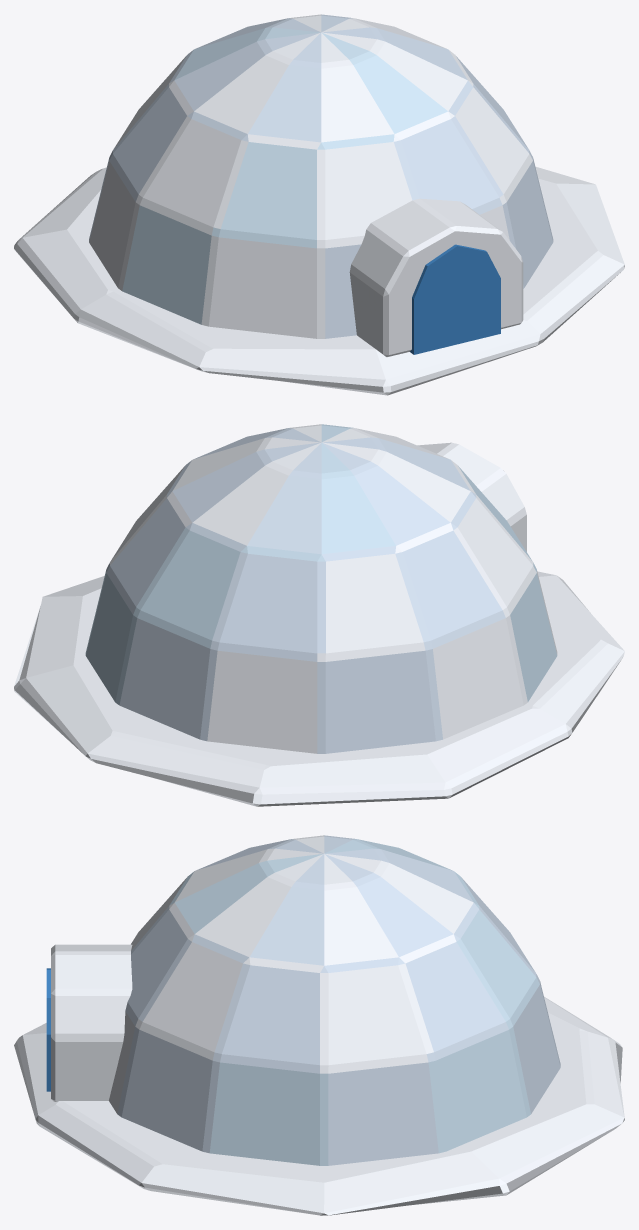
File: igloo-1x1.glb
3 views of the same model, one above another, from view 1: azimuth 30°, elevation 25°; view 2: azimuth 150°, elevation 25°; view 3: azimuth 270°, elevation 25° (orthographic).
Visible parts, largest first — view 1: igloo-1x1; view 2: igloo-1x1; view 3: igloo-1x1.
Boxes of the visible parts, x1=… form: igloo-1x1: x1=14, y1=14, x2=624, y2=395; igloo-1x1: x1=14, y1=424, x2=624, y2=806; igloo-1x1: x1=14, y1=835, x2=624, y2=1215.
Bounding box in the file's own units: 0.9 × 0.3829 × 0.899.
Materials: 1 (1 with a texture image).
